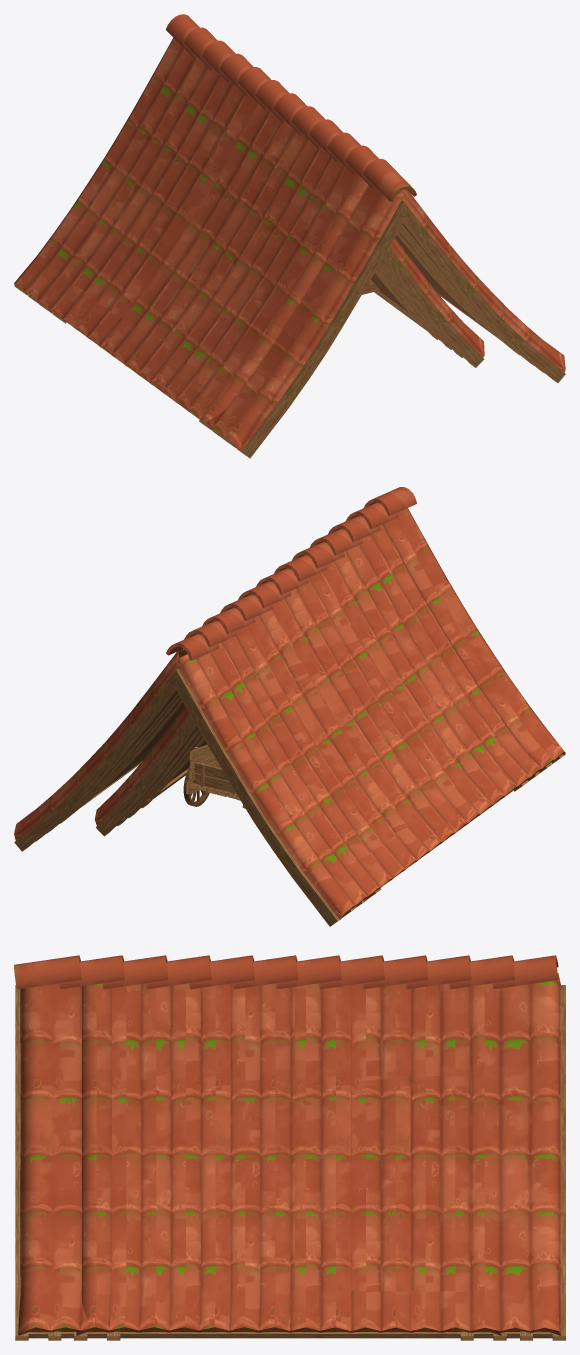
Rendered from village.glb.
3 renders of one model, top to bottom at view 1: azimuth 30°, elevation 25°; view 2: azimuth 150°, elevation 25°; view 3: azimuth 270°, elevation 25°, orthographic. The views are drawn at different scales.
Visible parts, largest first — view 1: Roof_RoundTiles_6x6, Roof_RoundTiles_6x8, Roof_RoundTiles_4x6, Roof_RoundTiles_4x4; view 2: Roof_RoundTiles_6x8, Roof_RoundTiles_6x6, Roof_RoundTiles_4x6, Prop_Wagon, Roof_RoundTiles_4x4; view 3: Roof_RoundTiles_6x8, Roof_RoundTiles_6x6.
Boxes of the visible parts, x1,y1,x2,y2 form: Roof_RoundTiles_6x6: [39, 27, 533, 438]; Roof_RoundTiles_6x8: [14, 14, 565, 458]; Roof_RoundTiles_4x6: [377, 238, 484, 367]; Roof_RoundTiles_4x4: [371, 265, 451, 349]; Roof_RoundTiles_6x8: [14, 487, 565, 926]; Roof_RoundTiles_6x6: [47, 502, 541, 906]; Roof_RoundTiles_4x6: [94, 706, 200, 836]; Prop_Wagon: [183, 744, 245, 808]; Roof_RoundTiles_4x4: [128, 733, 206, 817]; Roof_RoundTiles_6x8: [14, 955, 565, 1340]; Roof_RoundTiles_6x6: [59, 955, 514, 1340].
Size of the model in its own units: 8.25 by 5.67 by 9.68.
7 materials, 6 textured.
